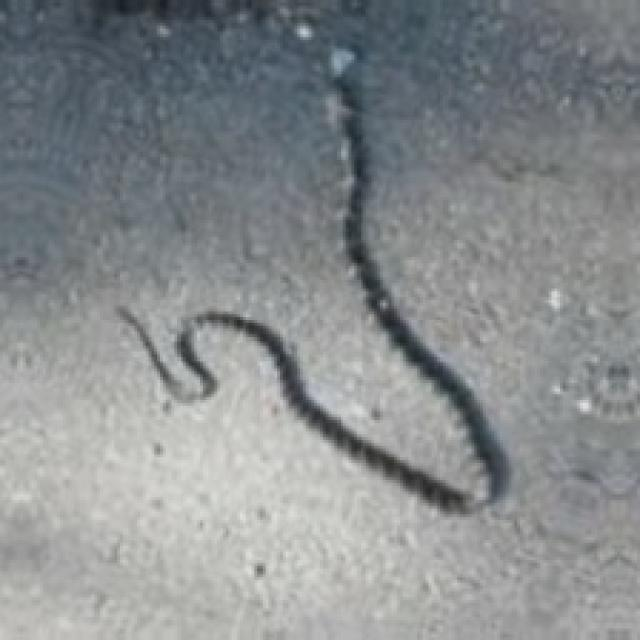king cobra: (117, 80, 509, 511)
